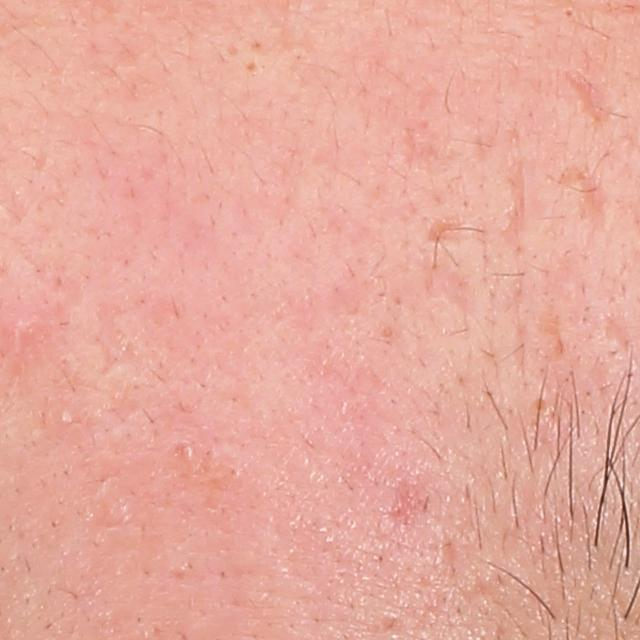atrophic_scar: (481, 129, 532, 236), (559, 159, 614, 236), (92, 286, 136, 373), (404, 114, 456, 180), (565, 68, 618, 131), (418, 266, 476, 319), (422, 217, 489, 247)
comedo: (561, 2, 577, 24), (380, 325, 395, 340)
papule: (3, 307, 45, 355)
